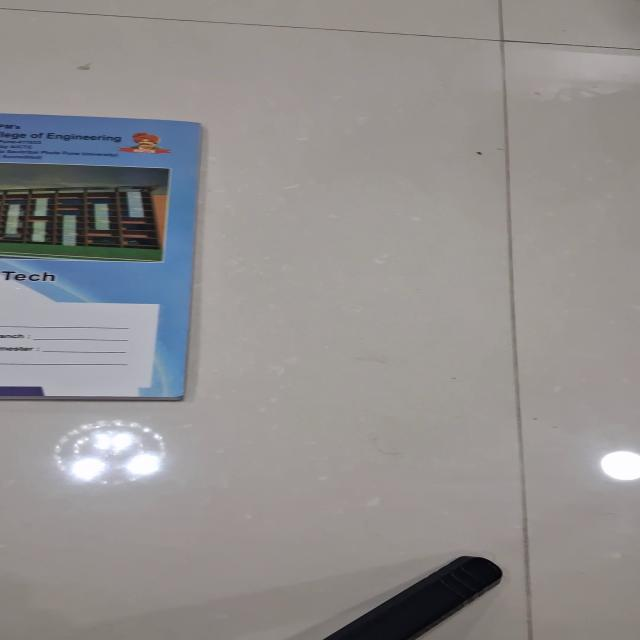paper: (0, 112, 202, 401)
